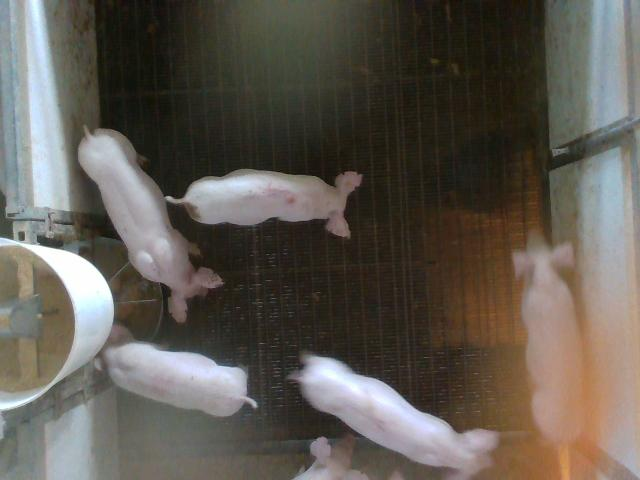pig-4: (95, 326, 256, 416)
pig-5: (166, 169, 362, 237)
